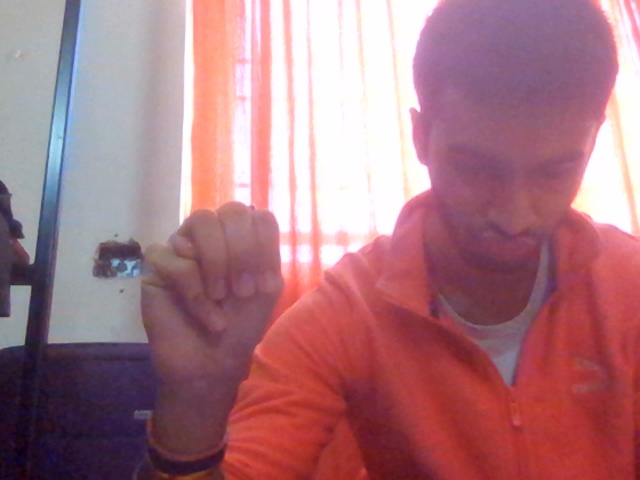M: (125, 179, 297, 429)
